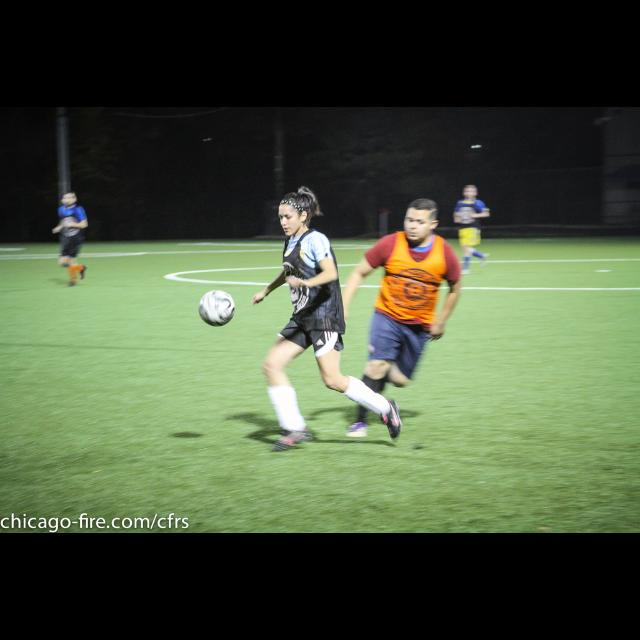Football: (198, 288, 236, 328)
